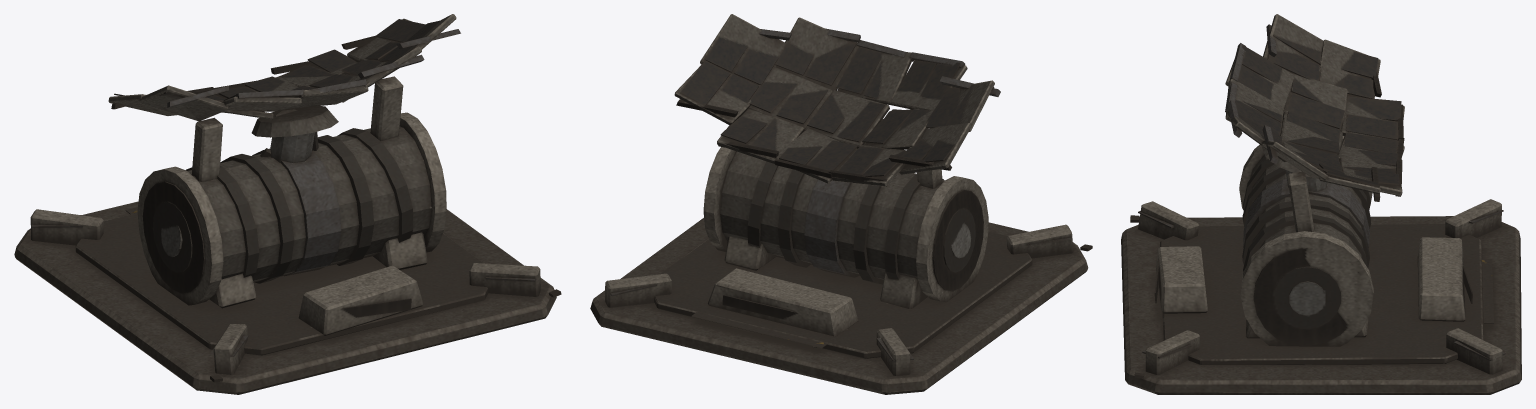
File: ord_advsolar_wreck.fbx
3 renders of one model, left to right at view 1: azimuth 30°, elevation 25°; view 2: azimuth 150°, elevation 25°; view 3: azimuth 270°, elevation 25°, orthographic. The views are drawn at different scales.
Parts seen in each view (by area): view 1: base_bar; view 2: base_bar; view 3: base_bar.
Part boxes in pixels (box(x1,y1,x2,y2)): base_bar: box(14, 14, 561, 394); base_bar: box(590, 14, 1092, 394); base_bar: box(1121, 14, 1521, 394).
Bounding box in the file's own units: 1565 × 1218 × 1571.
2 materials, 2 textured.
